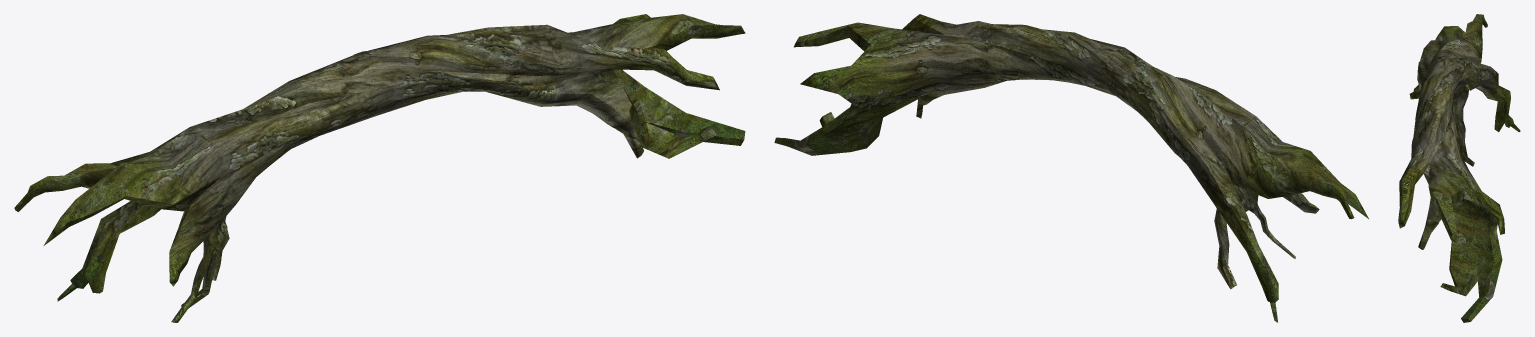
File: fallentree_00.fbx
3 views of the same model, side by side, from view 1: azimuth 30°, elevation 25°; view 2: azimuth 150°, elevation 25°; view 3: azimuth 270°, elevation 25° (orthographic). The views are drawn at different scales.
Visible parts, largest first — view 1: fallentree_00; view 2: fallentree_00; view 3: fallentree_00.
Part boxes in pixels (bbox=[...]): fallentree_00: bbox=[14, 14, 745, 322]; fallentree_00: bbox=[774, 14, 1368, 322]; fallentree_00: bbox=[1398, 14, 1520, 322].
Bounding box in the file's own units: 68.2 × 21.64 × 15.01.
